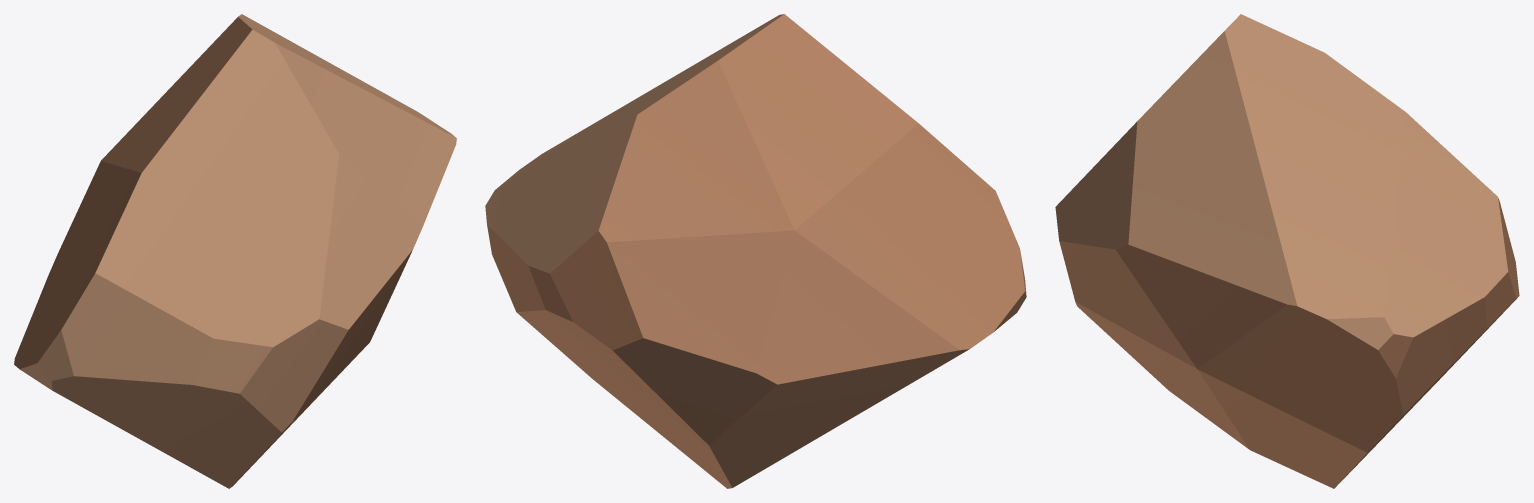
The model's file is Rock_2.fbx.
The picture shows the model from 3 angles, left to right: view 1: azimuth 30°, elevation 25°; view 2: azimuth 150°, elevation 25°; view 3: azimuth 270°, elevation 25°; orthographic projection. The views are drawn at different scales.
Visible parts, largest first — view 1: Rock.2; view 2: Rock.2; view 3: Rock.2.
Part boxes in pixels (<box>): Rock.2: <box>14,14,456,488</box>; Rock.2: <box>485,14,1026,488</box>; Rock.2: <box>1055,14,1519,488</box>.
Size of the model in its own units: 1170 by 990 by 1102.
